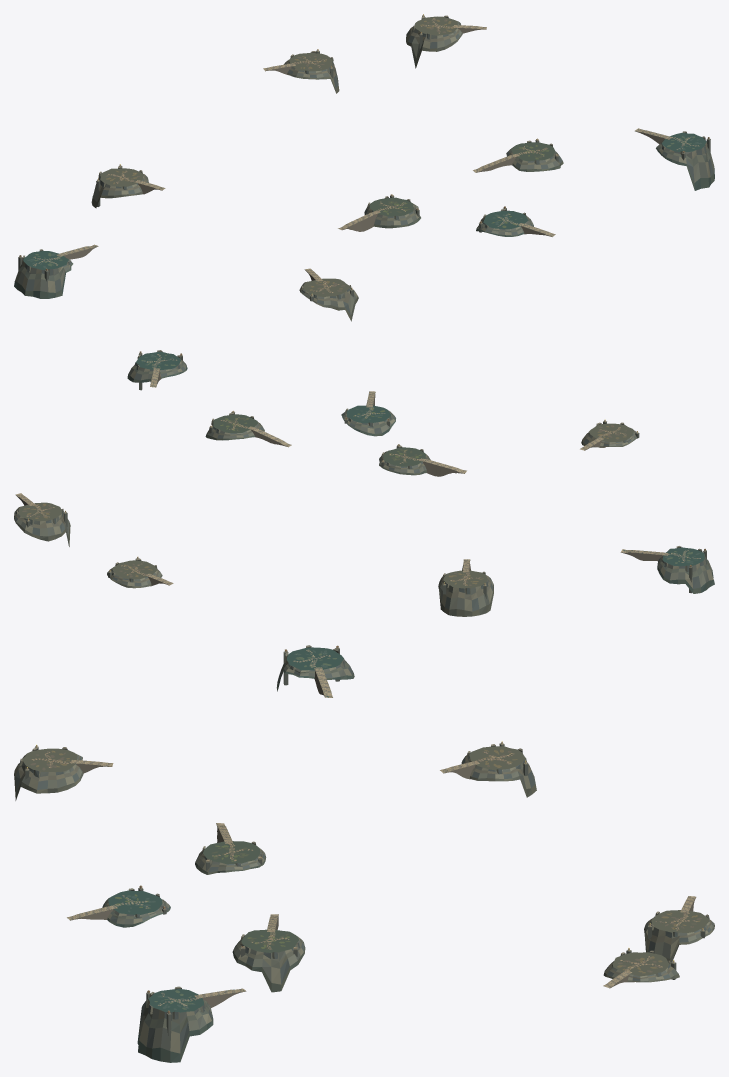
File: roaming_parcels_3.glb
The picture shows the model from 3 angles, top to bottom: view 1: azimuth 30°, elevation 25°; view 2: azimuth 150°, elevation 25°; view 3: azimuth 270°, elevation 25°; orthographic projection. The views are drawn at different scales.
Parts seen in each view (by area): view 1: Detail_3_12, Detail_15_14, Detail_9_13, Detail_7_16, Detail_14_7, Deck_7_16-col, Deck_13_12-col, Deck_12_7-col, Deck_6_9-col, Deck_10_13-col, Deck_14_7-col, Detail_6_9 (+8 smaller); view 2: Detail_6_9, Detail_14_7, Detail_3_12, Detail_9_13, Detail_11_14, Detail_3_11, Deck_7_16-col, Deck_12_7-col, Deck_11_14-col, Deck_10_13-col, Deck_13_12-col, Deck_6_9-col (+6 smaller); view 3: Detail_16_14, Detail_13_12, Detail_7_15, Detail_14_7, Detail_12_7, Detail_10_13, Detail_7_16, Deck_7_16-col, Deck_3_12-col, Deck_14_7-col, Deck_13_12-col, Deck_12_7-col (+8 smaller).
Part boxes in pixels (left/top/right/bottom): Detail_3_12: left=14, top=253, right=71, bottom=298; Detail_15_14: left=656, top=137, right=709, bottom=190; Detail_9_13: left=342, top=202, right=398, bottom=231; Detail_7_16: left=316, top=284, right=358, bottom=321; Detail_14_7: left=410, top=14, right=473, bottom=57; Deck_7_16-col: left=303, top=278, right=349, bottom=296; Deck_13_12-col: left=511, top=142, right=555, bottom=161; Deck_12_7-col: left=289, top=52, right=332, bottom=71; Deck_6_9-col: left=100, top=168, right=143, bottom=187; Deck_10_13-col: left=369, top=197, right=413, bottom=216; Deck_14_7-col: left=415, top=16, right=466, bottom=35; Detail_6_9: left=91, top=164, right=144, bottom=208; Detail_6_9: left=439, top=571, right=493, bottom=616; Detail_14_7: left=14, top=498, right=69, bottom=541; Detail_3_12: left=657, top=546, right=714, bottom=593; Detail_9_13: left=393, top=449, right=462, bottom=476; Detail_11_14: left=343, top=408, right=395, bottom=436; Detail_3_11: left=657, top=558, right=693, bottom=593; Deck_7_16-col: left=589, top=423, right=633, bottom=442; Deck_12_7-col: left=112, top=560, right=156, bottom=579; Deck_11_14-col: left=346, top=405, right=390, bottom=423; Deck_10_13-col: left=383, top=447, right=425, bottom=466; Deck_13_12-col: left=213, top=414, right=257, bottom=433; Deck_6_9-col: left=443, top=570, right=487, bottom=588; Detail_16_14: left=138, top=1006, right=194, bottom=1062; Detail_13_12: left=262, top=930, right=305, bottom=992; Detail_7_15: left=47, top=753, right=113, bottom=793; Detail_14_7: left=610, top=950, right=679, bottom=983; Detail_12_7: left=644, top=918, right=684, bottom=962; Detail_10_13: left=195, top=848, right=265, bottom=874; Detail_7_16: left=14, top=753, right=54, bottom=800; Deck_7_16-col: left=22, top=748, right=77, bottom=772; Deck_3_12-col: left=286, top=647, right=343, bottom=670; Deck_14_7-col: left=612, top=952, right=669, bottom=977; Deck_13_12-col: left=241, top=929, right=298, bottom=952; Deck_12_7-col: left=651, top=910, right=708, bottom=932.
Bounding box in the file's own units: 478 × 35.84 × 360.
